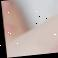plaque psoriasis: (31, 30, 58, 56), (0, 0, 12, 21), (4, 53, 40, 58)
